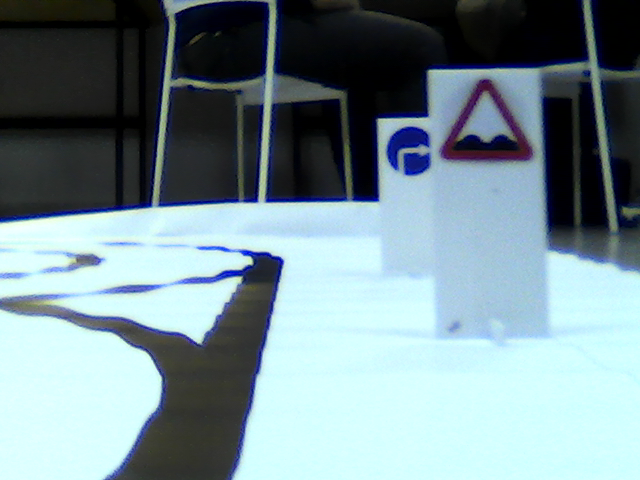Nerov: (440, 75, 536, 164)
Right: (385, 126, 432, 177)
